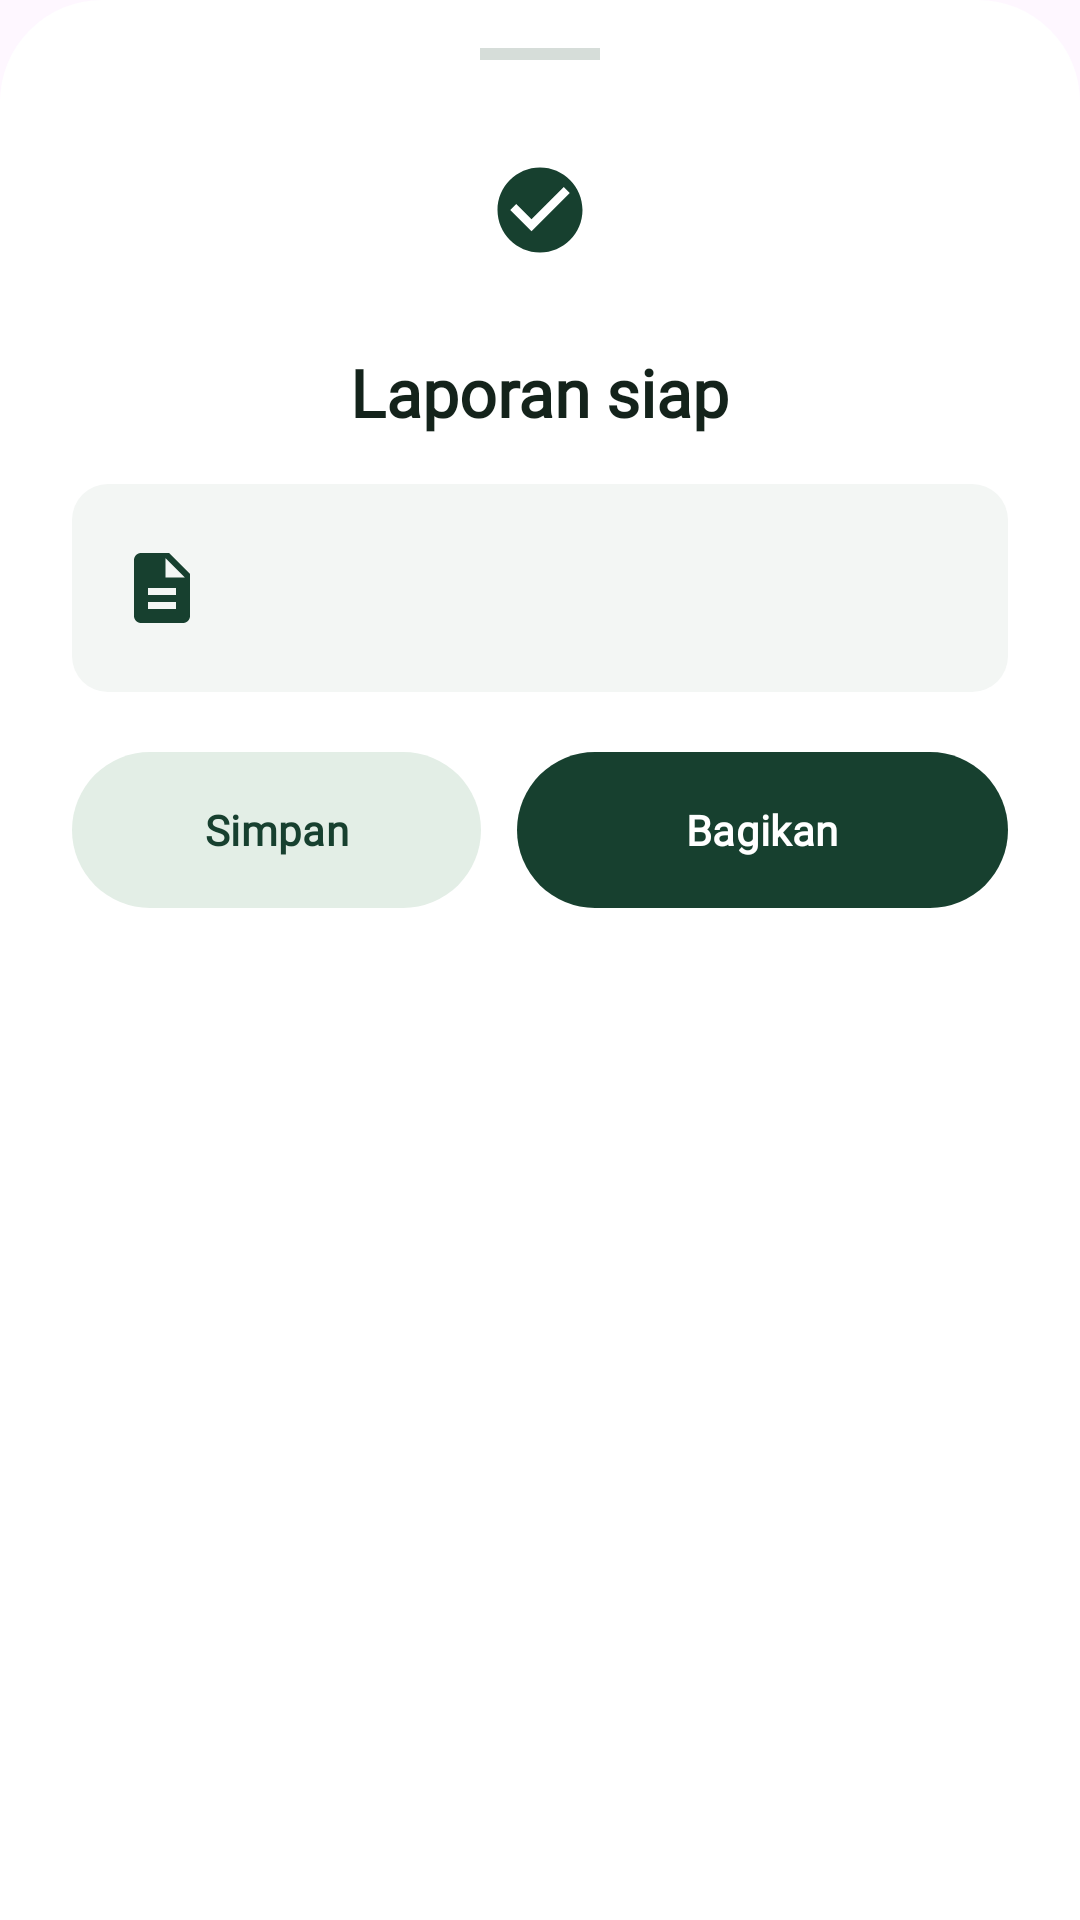

Screen size 1080×1920. Icon name, then its box in pixels as box(x1, y1, x2, y2):
check circle: box(497, 167, 583, 253)
report: box(134, 553, 190, 623)
